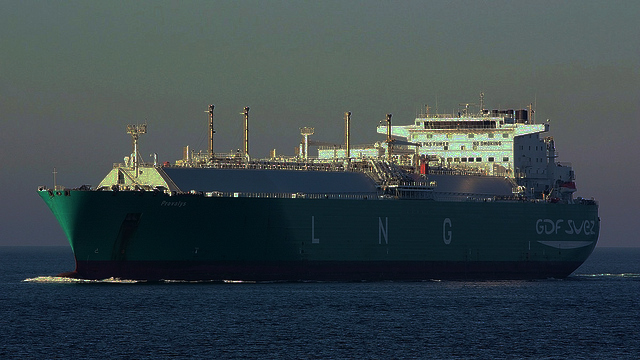LNG_ship: (37, 96, 606, 277)
